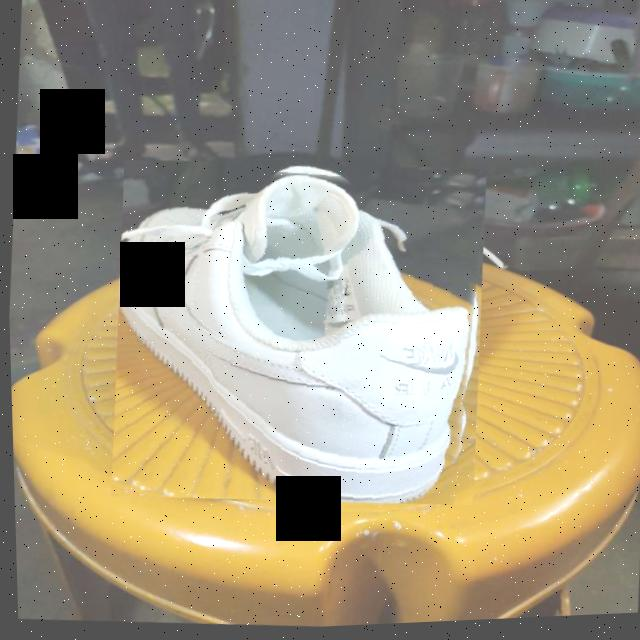shoe: (99, 148, 493, 522)
